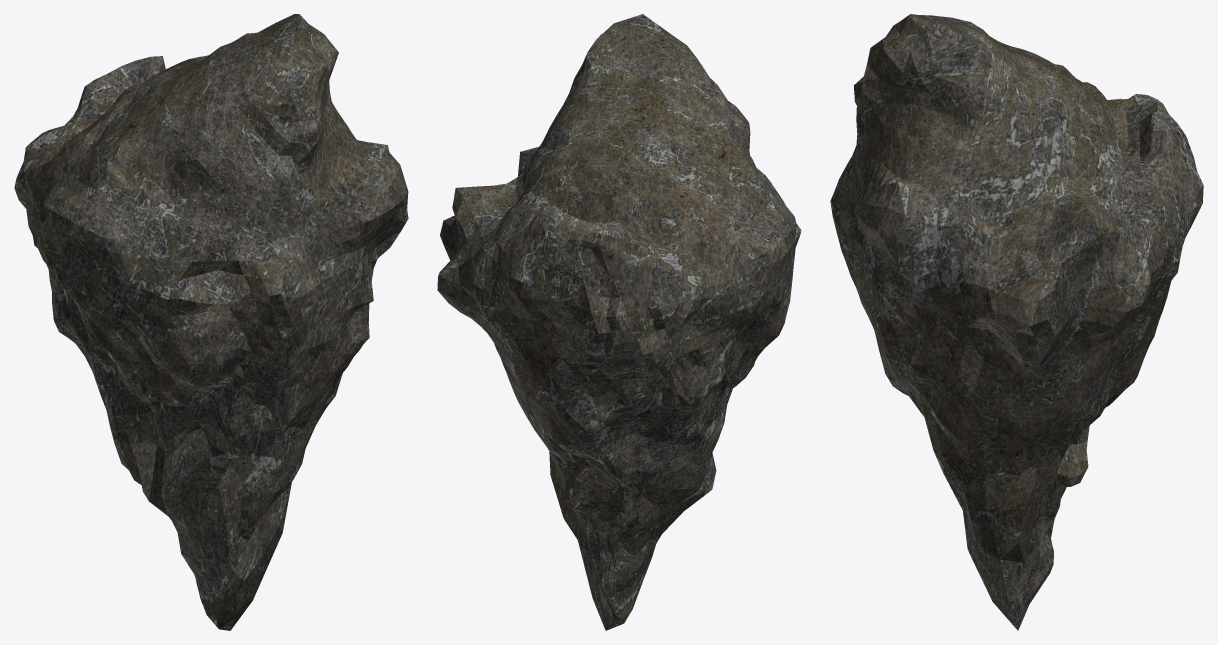
The model's file is floating_rock_3.glb.
3 renders of one model, left to right at view 1: azimuth 30°, elevation 25°; view 2: azimuth 150°, elevation 25°; view 3: azimuth 270°, elevation 25°, orthographic. The views are drawn at different scales.
Parts seen in each view (by area): view 1: Floating rock 3.001; view 2: Floating rock 3.001; view 3: Floating rock 3.001.
Boxes of the visible parts, x1,y1,x2,y2 form: Floating rock 3.001: (14, 14, 408, 630); Floating rock 3.001: (437, 14, 801, 630); Floating rock 3.001: (830, 14, 1203, 630).
Bounding box in the file's own units: 5.88 × 9.7 × 5.27.
Materials: 1 (1 with a texture image).
